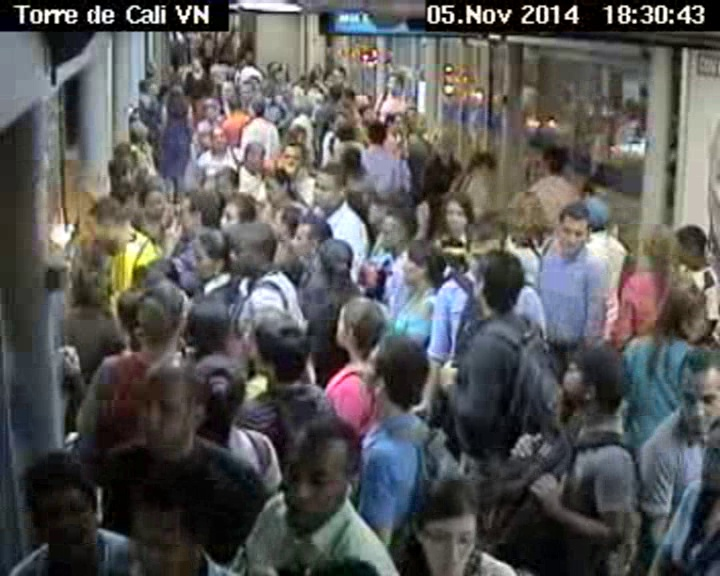person: (121, 458, 225, 576), (10, 448, 110, 565), (281, 416, 374, 531), (403, 465, 489, 576), (130, 358, 214, 464), (361, 334, 434, 431), (239, 301, 312, 390), (547, 336, 625, 417), (668, 340, 720, 454), (115, 270, 185, 353), (646, 273, 714, 351), (468, 245, 527, 325), (181, 292, 246, 364), (72, 189, 143, 251), (325, 290, 385, 362), (63, 232, 117, 310), (220, 222, 282, 283), (285, 208, 339, 265), (174, 182, 226, 241), (371, 201, 421, 262), (550, 192, 594, 260), (669, 220, 717, 279), (500, 182, 546, 242), (397, 237, 445, 293), (191, 224, 231, 287), (309, 234, 353, 289), (311, 156, 348, 214), (642, 219, 680, 273), (438, 186, 478, 236), (576, 189, 616, 236), (219, 186, 259, 230), (131, 170, 167, 216), (531, 141, 570, 179), (104, 153, 138, 194), (334, 142, 369, 177), (276, 141, 309, 175), (208, 164, 242, 197), (262, 170, 293, 205), (240, 139, 267, 172), (199, 97, 228, 125), (363, 118, 388, 150), (126, 115, 150, 146), (471, 149, 495, 177), (207, 126, 233, 150), (137, 77, 164, 100), (385, 108, 406, 135), (284, 121, 307, 144), (334, 120, 358, 141), (243, 98, 266, 119), (410, 114, 431, 137), (385, 71, 404, 96), (222, 78, 242, 98), (331, 62, 348, 85), (267, 104, 287, 122), (166, 87, 183, 107), (239, 78, 255, 99), (327, 82, 342, 103), (190, 54, 201, 71)
